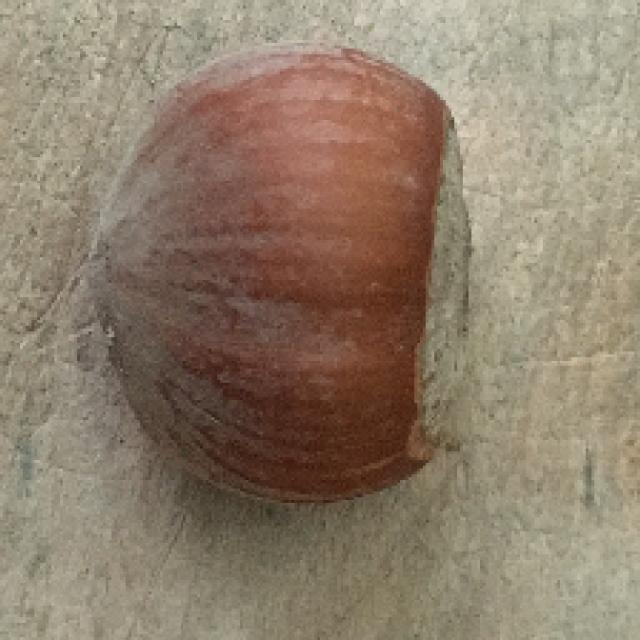QualityHazelnut: (81, 40, 471, 508)
